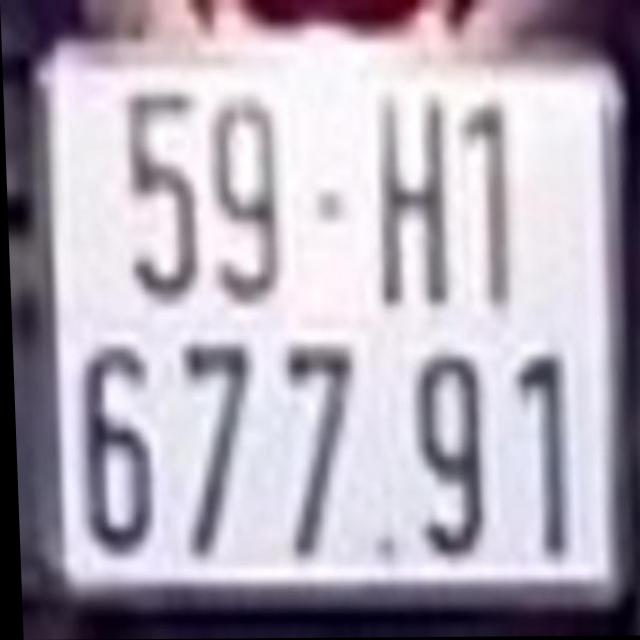1: (461, 92, 514, 312), (517, 353, 568, 563)
5: (125, 88, 201, 295)
6: (77, 346, 153, 547)
7: (168, 337, 251, 554), (283, 350, 354, 545)
9: (214, 91, 282, 298), (416, 354, 485, 552)
H: (372, 90, 453, 307)
